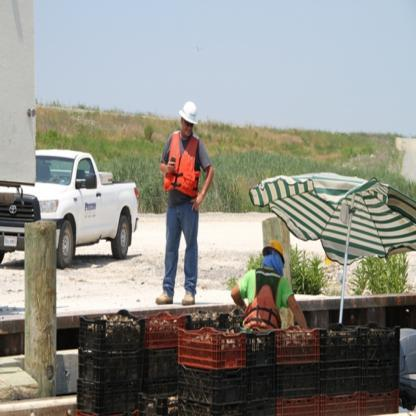truck: (9, 152, 138, 268)
